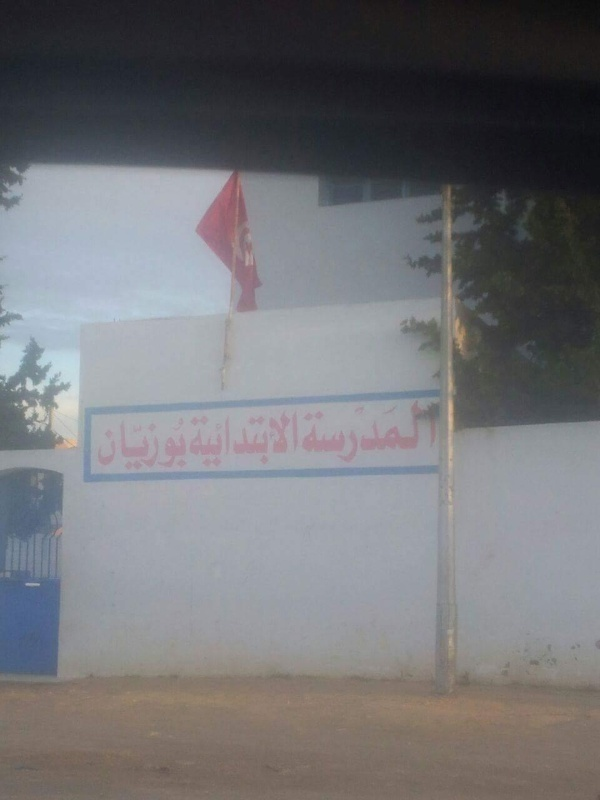text: (321, 399, 336, 465), (337, 399, 352, 465), (353, 399, 368, 465), (369, 399, 384, 465), (385, 399, 400, 465), (401, 399, 416, 465), (417, 399, 432, 465), (193, 407, 208, 470), (209, 407, 224, 470), (225, 407, 240, 470), (241, 407, 256, 470), (257, 407, 272, 470), (273, 407, 288, 470), (306, 399, 320, 465), (97, 417, 112, 471), (113, 417, 128, 471), (129, 417, 144, 471), (145, 417, 160, 471), (161, 417, 176, 471), (289, 407, 301, 470), (177, 417, 187, 471), (433, 399, 439, 465), (189, 407, 192, 470), (95, 417, 96, 471)
